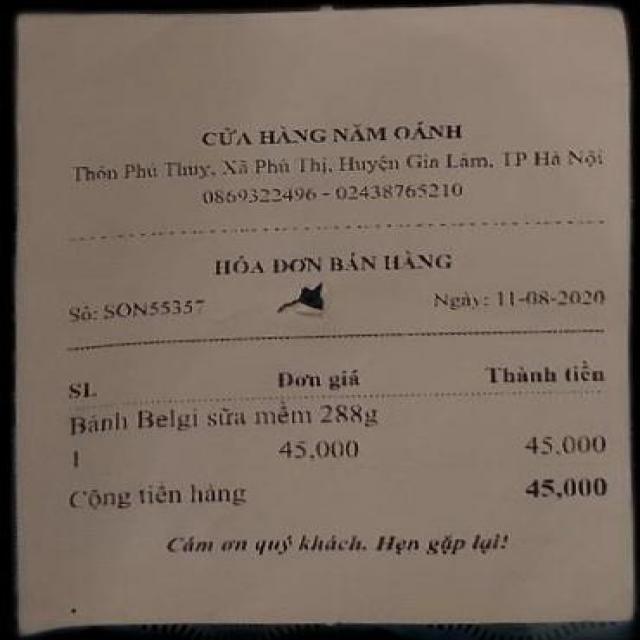Date: (490, 278, 620, 316)
Store_Name: (171, 116, 472, 145)
Total_Amount: (55, 469, 622, 516)
